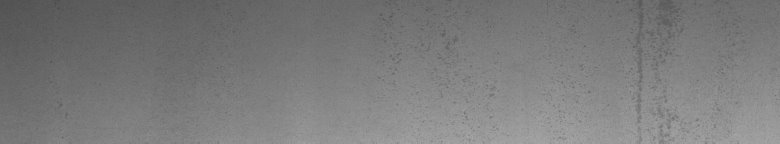ib: (380, 14, 495, 96)
